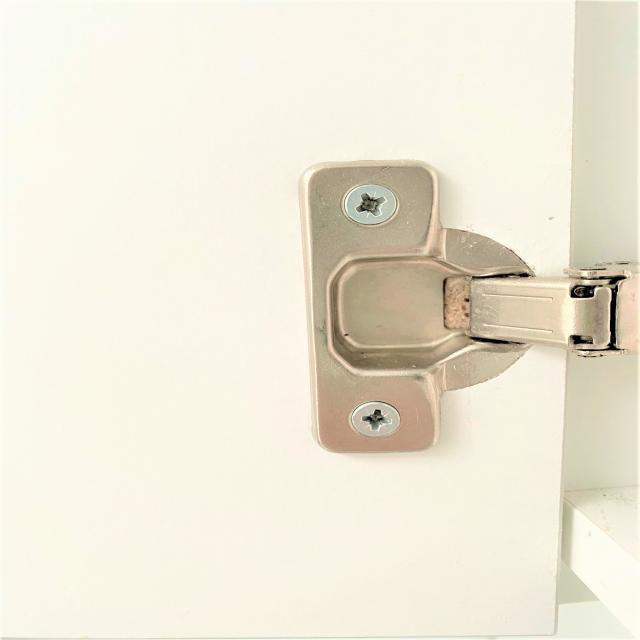PhillipsScrewHead: (343, 183, 399, 226), (350, 401, 402, 439)
